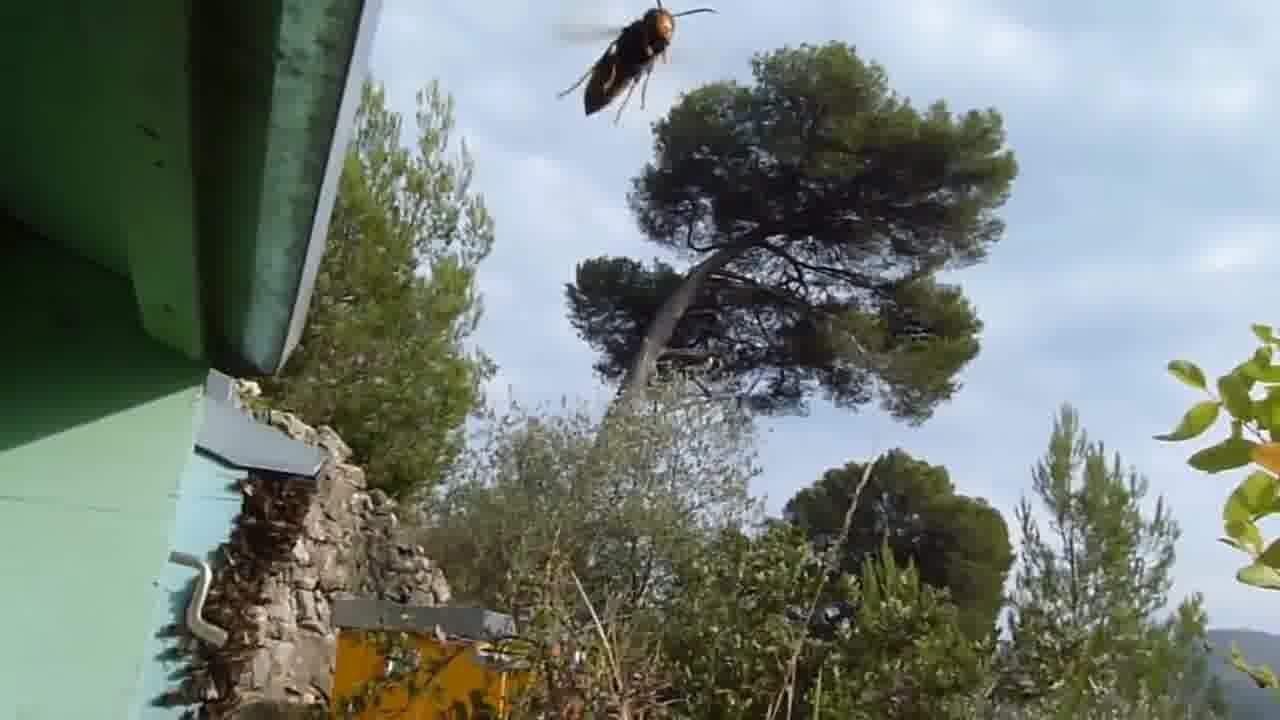bee: (232, 462, 312, 580), (222, 578, 272, 692)
hornet: (579, 1, 691, 122)
